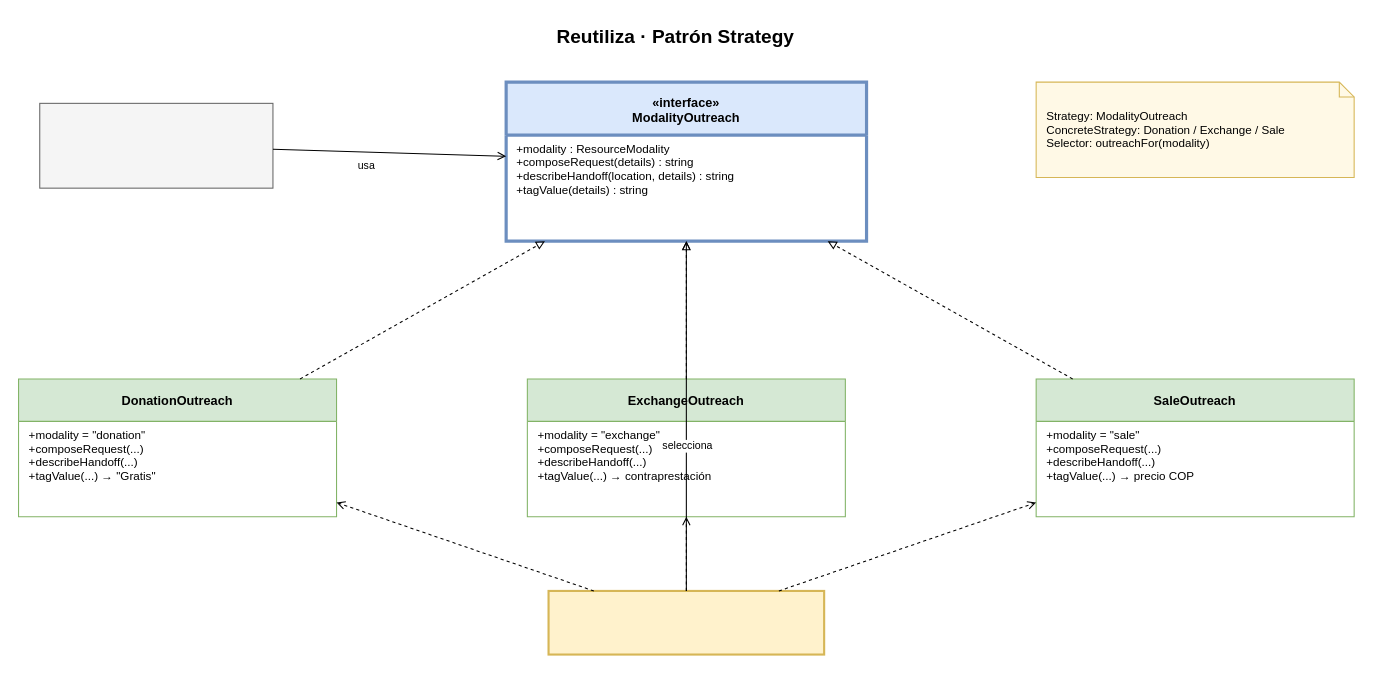
Image size: 1373x673. Some labels were removed from this diagram. The shapes that lost their labels are listed below. From the top down, each one's centre as x and y in pixels, then its label:
the point at 156,145: ContactButton ResourceTag página /recursos/[id]
the point at 686,622: outreachFor(modality) : ModalityOutreach
